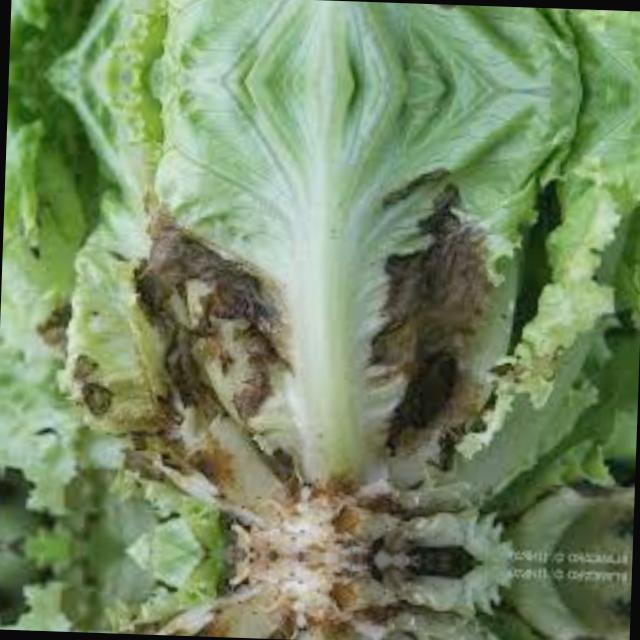Lettuce - Anthracnose: (75, 75, 591, 566), (72, 548, 575, 640), (91, 0, 594, 91)
